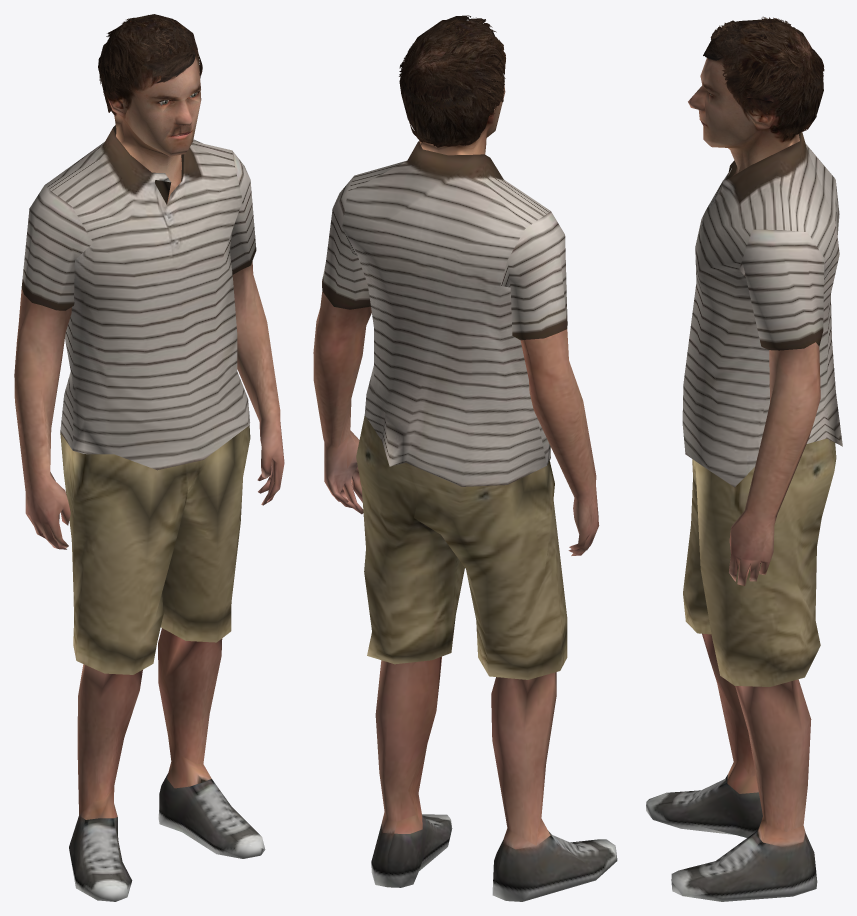
Rendered from Male_Adult_01_idle.glb.
The picture shows the model from 3 angles, left to right: view 1: azimuth 30°, elevation 25°; view 2: azimuth 150°, elevation 25°; view 3: azimuth 270°, elevation 25°; orthographic projection. The views are drawn at different scales.
Parts seen in each view (by area): view 1: m002_hipoly_81_bones_opacity_b; view 2: m002_hipoly_81_bones_opacity_b; view 3: m002_hipoly_81_bones_opacity_b.
Boxes of the visible parts, bbox=[...] form: m002_hipoly_81_bones_opacity_b: bbox=[14, 14, 284, 901]; m002_hipoly_81_bones_opacity_b: bbox=[313, 15, 617, 901]; m002_hipoly_81_bones_opacity_b: bbox=[646, 16, 842, 901].
Size of the model in its own units: 0.5859 by 1.82 by 0.3848.
3 materials, 3 textured.
